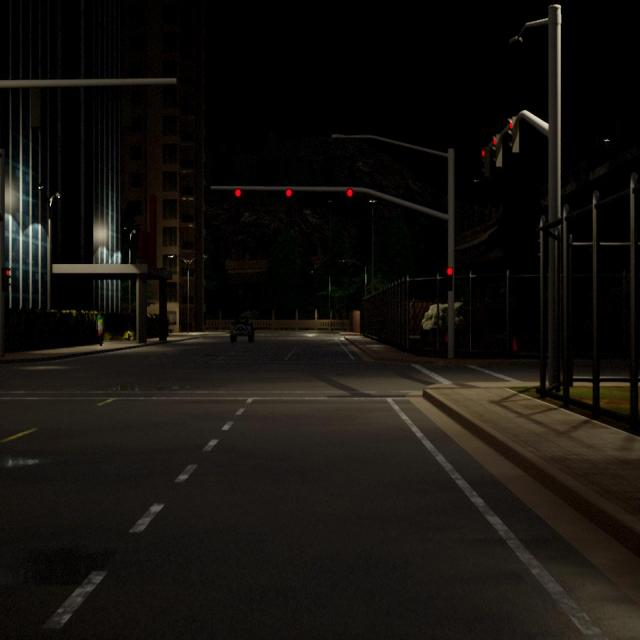Pedestrian: (96, 310, 105, 347)
Vehicle: (230, 317, 254, 343)
traffic_light: (508, 116, 520, 156), (492, 132, 501, 169), (2, 267, 11, 292), (480, 146, 488, 173), (445, 267, 453, 291), (346, 188, 353, 197), (286, 188, 292, 198), (235, 188, 241, 197)
